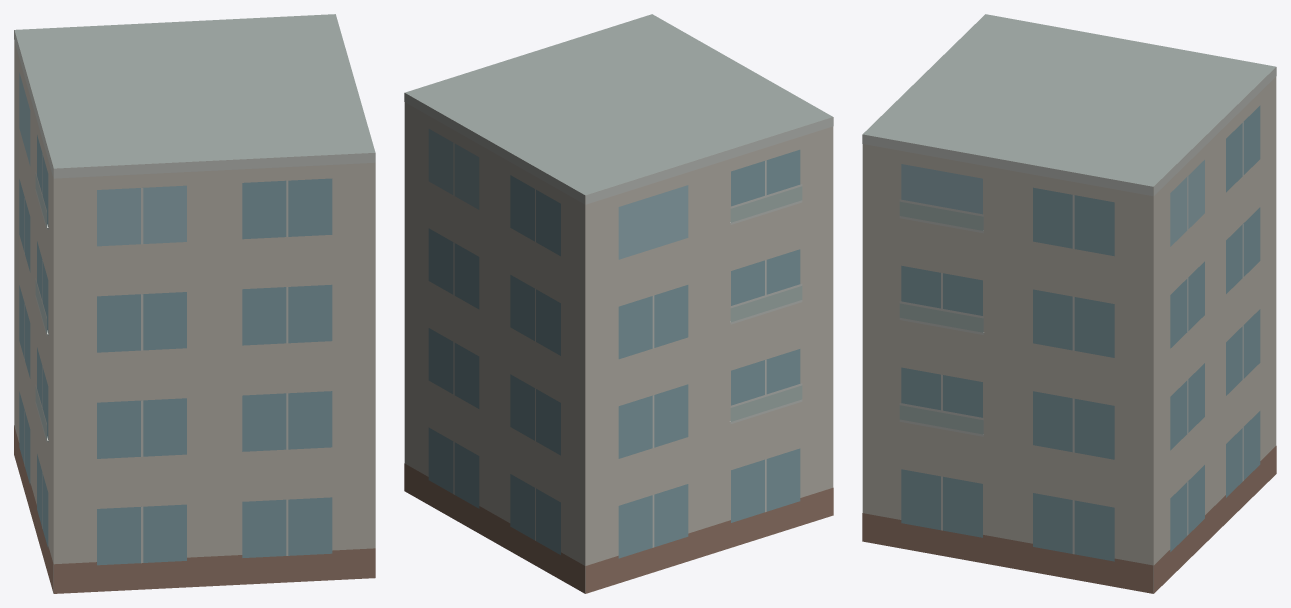
File: survey-upis-32565792.glb
The picture shows the model from 3 angles, left to right: view 1: azimuth 30°, elevation 25°; view 2: azimuth 150°, elevation 25°; view 3: azimuth 270°, elevation 25°; orthographic projection. The views are drawn at different scales.
Parts seen in each view (by area): view 1: survey-upis-32565792.tmp; view 2: survey-upis-32565792.tmp; view 3: survey-upis-32565792.tmp.
Boxes of the visible parts, x1,y1,x2,y2 form: survey-upis-32565792.tmp: [14, 14, 375, 593]; survey-upis-32565792.tmp: [404, 14, 833, 593]; survey-upis-32565792.tmp: [862, 14, 1276, 593].
Size of the model in its own units: 9.48 by 10.4 by 9.6.
